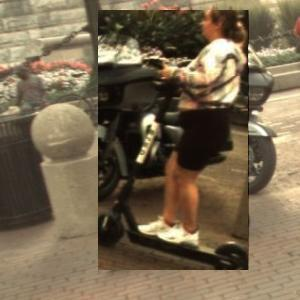with scooter: (99, 10, 250, 270)
